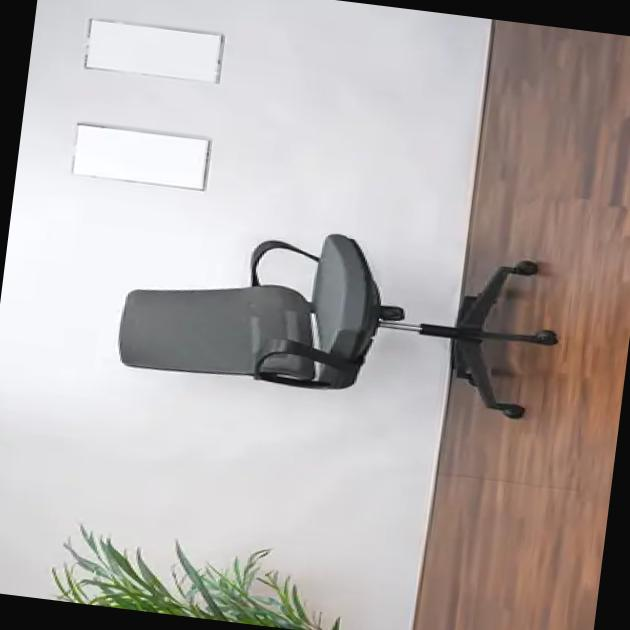chair: (78, 222, 554, 434)
